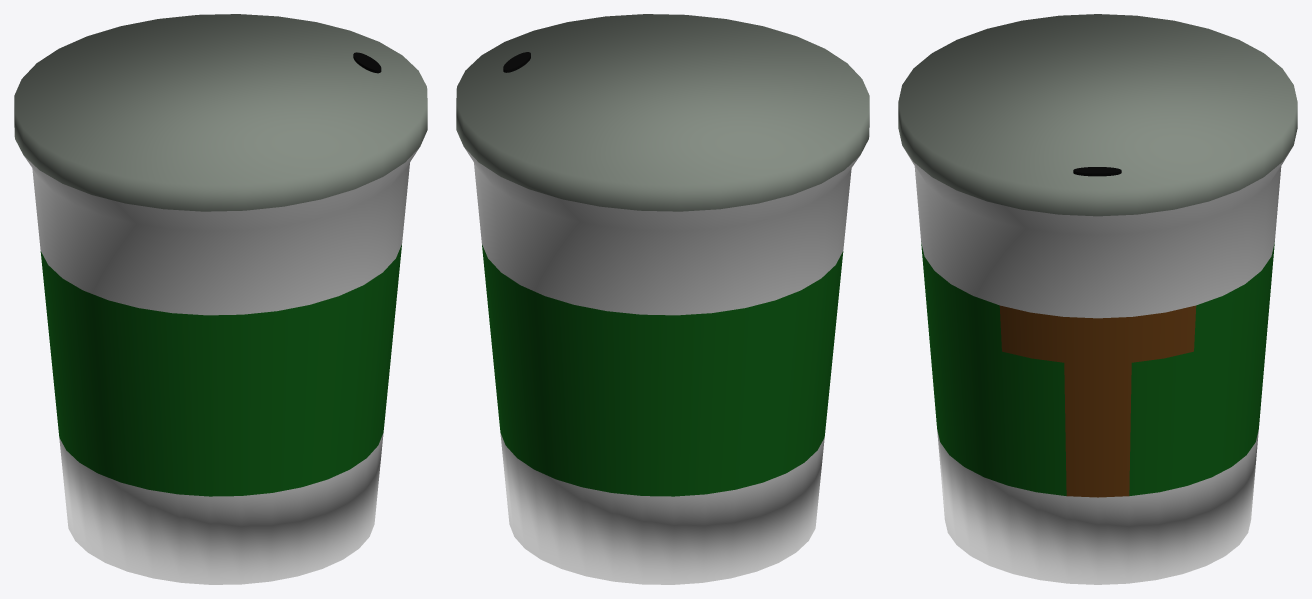
The model's file is COFFEE CUP.fbx.
3 views of the same model, side by side, from view 1: azimuth 30°, elevation 25°; view 2: azimuth 150°, elevation 25°; view 3: azimuth 270°, elevation 25° (orthographic).
Visible parts, largest first — view 1: Cube; view 2: Cube; view 3: Cube.
Boxes of the visible parts, x1,y1,x2,y2 form: Cube: (14,14,427,584); Cube: (456,14,869,584); Cube: (898,14,1297,584).
Size of the model in its own units: 272 by 303 by 261.
